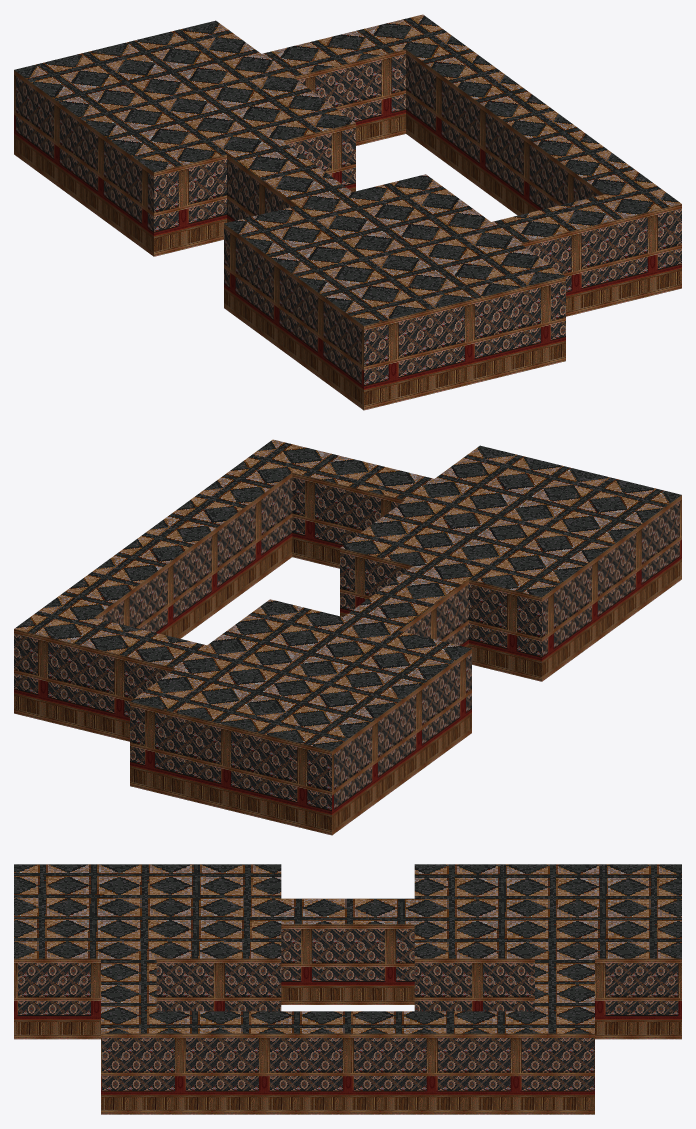
The model's file is TestLevel.glb.
3 renders of one model, top to bottom at view 1: azimuth 30°, elevation 25°; view 2: azimuth 150°, elevation 25°; view 3: azimuth 270°, elevation 25°, orthographic. The views are drawn at different scales.
Visible parts, largest first — view 1: Plane; view 2: Plane; view 3: Plane.
Boxes of the visible parts, x1,y1,x2,y2 form: Plane: (14,14,681,410); Plane: (14,439,681,835); Plane: (14,864,681,1114).
Bounding box in the file's own units: 9 × 2 × 15.
2 materials, 2 textured.
